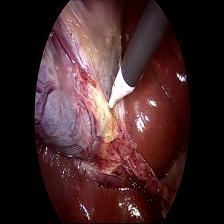Hook: (102, 68, 142, 114)
